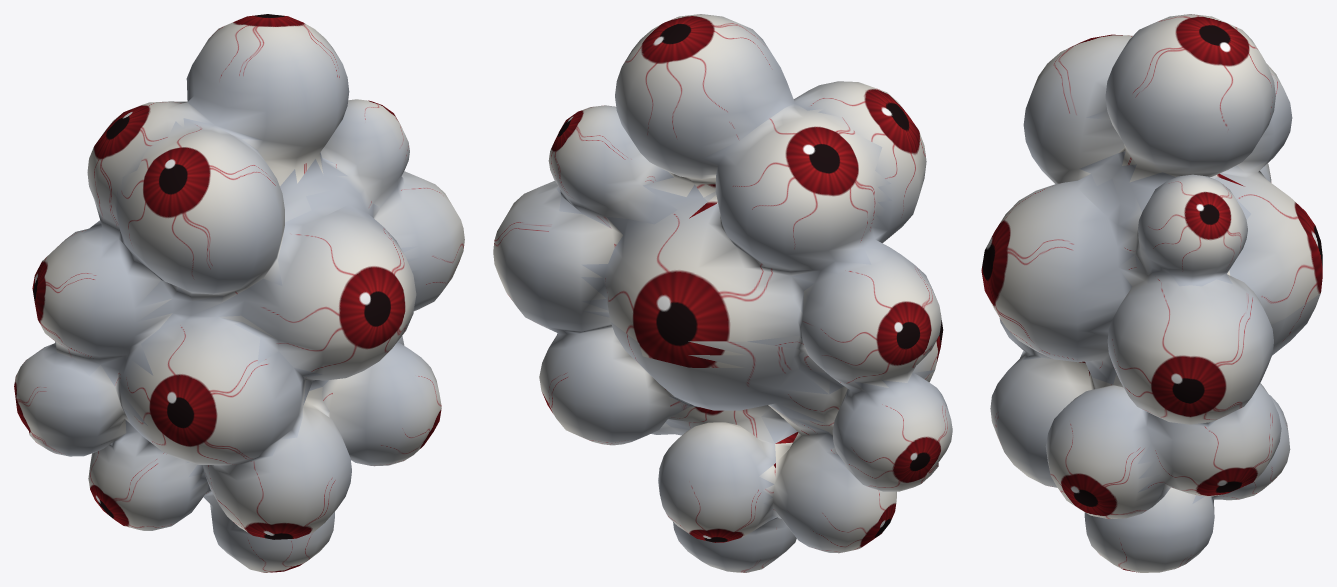
The model's file is eye_eggs.glb.
3 views of the same model, side by side, from view 1: azimuth 30°, elevation 25°; view 2: azimuth 150°, elevation 25°; view 3: azimuth 270°, elevation 25° (orthographic). The views are drawn at different scales.
Parts seen in each view (by area): view 1: tripo_node_c9cf5845-d07a-4f70-8497-e4fc5169e85f; view 2: tripo_node_c9cf5845-d07a-4f70-8497-e4fc5169e85f; view 3: tripo_node_c9cf5845-d07a-4f70-8497-e4fc5169e85f.
Part boxes in pixels (left/top/right/bottom): tripo_node_c9cf5845-d07a-4f70-8497-e4fc5169e85f: left=14, top=14, right=464, bottom=572; tripo_node_c9cf5845-d07a-4f70-8497-e4fc5169e85f: left=493, top=14, right=952, bottom=572; tripo_node_c9cf5845-d07a-4f70-8497-e4fc5169e85f: left=981, top=14, right=1322, bottom=572.
Bounding box in the file's own units: 0.8442 × 0.9995 × 0.5571.
1 material, 1 textured.
